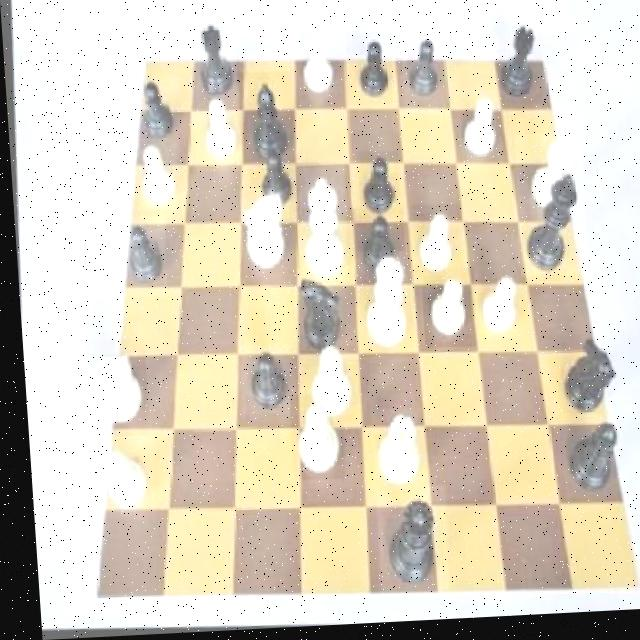bishop: (232, 73, 297, 171), (553, 419, 616, 509)
black-bishop: (509, 170, 587, 284)
black-king: (537, 337, 621, 429), (281, 271, 342, 360)
black-knight: (398, 31, 450, 120), (112, 215, 166, 300), (231, 346, 292, 419), (346, 210, 404, 285), (126, 74, 180, 149), (343, 33, 394, 111), (245, 148, 300, 216), (352, 155, 398, 226)
black-pawn: (366, 488, 444, 598)
black-queen: (490, 23, 544, 111), (189, 14, 238, 104)
black-rook: (280, 395, 340, 484), (295, 340, 352, 430)
white-bishop: (291, 165, 348, 291)
white-king: (72, 337, 144, 438), (229, 189, 291, 279)
white-knight: (91, 433, 151, 517), (413, 271, 473, 354), (404, 206, 461, 285), (187, 92, 240, 175), (466, 268, 519, 349), (452, 92, 504, 170), (292, 29, 342, 103), (132, 138, 179, 212)
white-pawn: (348, 253, 411, 362)
white-queen: (510, 137, 583, 223), (362, 410, 422, 499)
